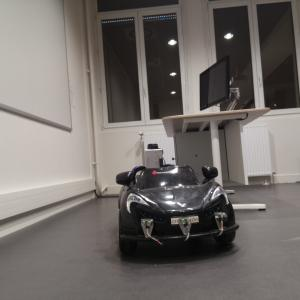big: (116, 164, 239, 256)
